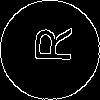R: (25, 25, 72, 64)
